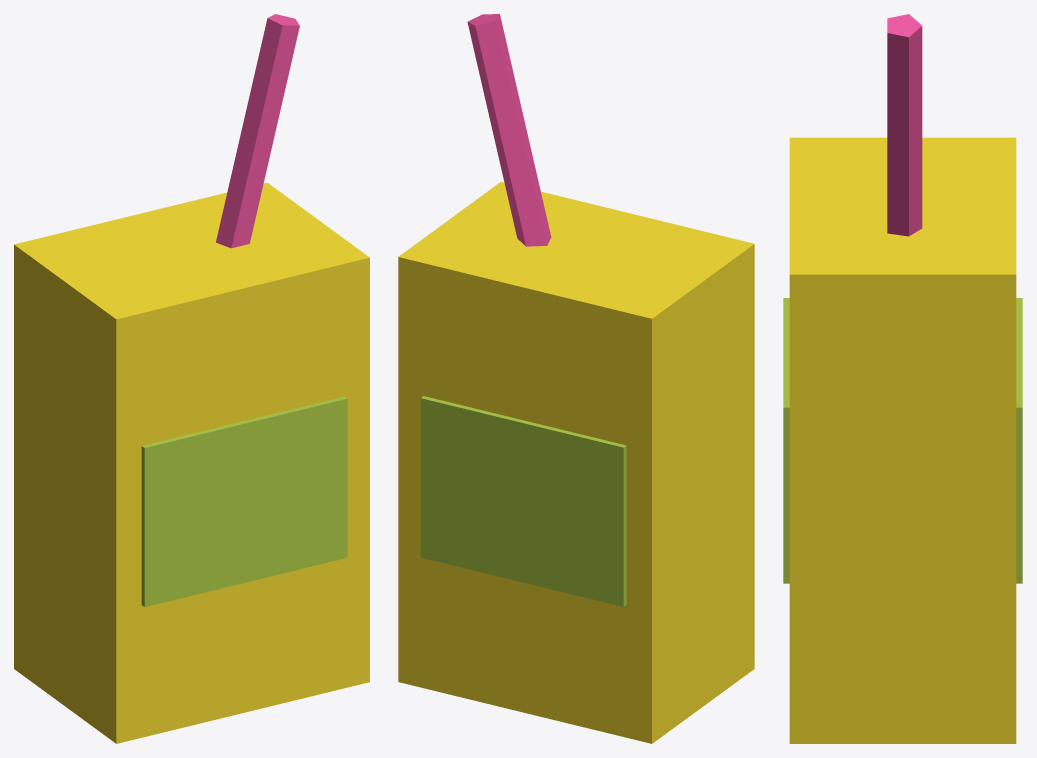
Rendered from juice_box.glb.
The picture shows the model from 3 angles, left to right: view 1: azimuth 30°, elevation 25°; view 2: azimuth 150°, elevation 25°; view 3: azimuth 270°, elevation 25°; orthographic projection. The views are drawn at different scales.
Parts seen in each view (by area): view 1: juice_box; view 2: juice_box; view 3: juice_box.
Part boxes in pixels (x1,y1,x2,y2): juice_box: [14, 14, 369, 743]; juice_box: [398, 14, 754, 743]; juice_box: [783, 14, 1022, 743].
Bounding box in the file's own units: 0.05 × 0.1199 × 0.037.
